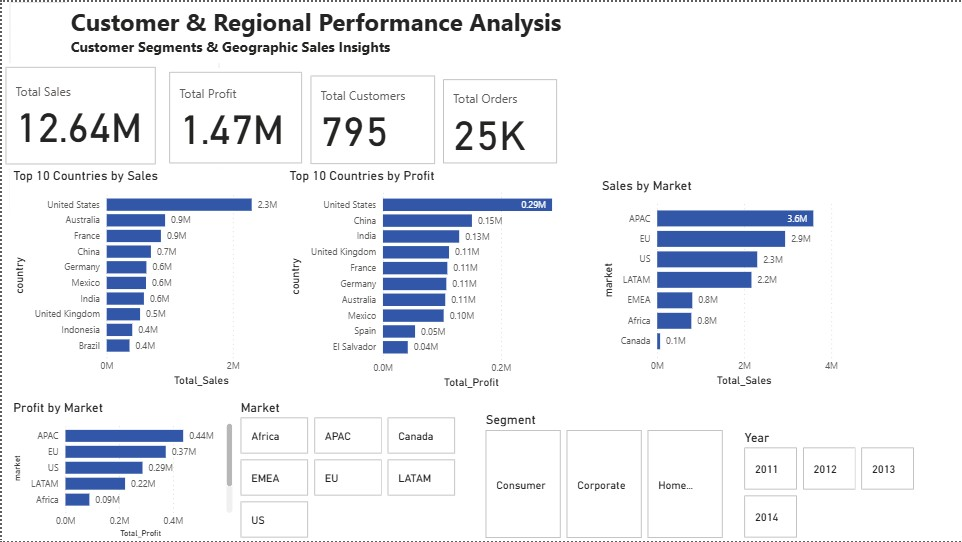

What the dashboard file says about the page in this screenshot:
{"tool":"powerbi","page":{"name":"Customer & Regional Performance Analysis","canvas":[1280,720],"ordinal":2},"visuals":[{"type":"textbox","box":[10,0,280,280],"z":0},{"type":"textbox","box":[86.2,0,775,81.2],"z":1000},{"type":"cardVisual","fields":{"Data":["SuperStore_Orders.Total_Sales"]},"box":[0,81.2,210,140],"z":2000},{"type":"cardVisual","fields":{"Data":["SuperStore_Orders.Total_Orders"]},"box":[582.5,98.8,162.5,122.5],"z":3000},{"type":"cardVisual","fields":{"Data":["SuperStore_Orders.Total_Profit"]},"box":[218.8,88.8,187.5,132.5],"z":4000},{"type":"cardVisual","fields":{"Data":["SuperStore_Orders.Total_Customers"]},"box":[406.2,92.5,176.2,128.8],"z":5000},{"type":"barChart","title":"Top 10 Countries by Sales","fields":{"Category":["SuperStore_Orders.country"],"Y":["SuperStore_Orders.Total_Sales"]},"box":[10,221.2,396.2,296.2],"z":6000},{"type":"barChart","title":"Top 10 Countries by Profit","fields":{"Category":["SuperStore_Orders.country"],"Y":["SuperStore_Orders.Total_Profit"]},"box":[378.8,221.2,385,298.8],"z":7000},{"type":"barChart","title":"Sales by Market","fields":{"Category":["SuperStore_Orders.market"],"Y":["SuperStore_Orders.Total_Sales"]},"box":[795,235,325,282.5],"z":8000},{"type":"advancedSlicerVisual","fields":{"Values":["SuperStore_Orders.market"]},"box":[312.5,530,296.2,190],"z":9000},{"type":"advancedSlicerVisual","fields":{"Values":["SuperStore_Orders.segment"]},"box":[640,546.2,326.2,173.8],"z":11000},{"type":"advancedSlicerVisual","fields":{"Values":["SuperStore_Orders.year"]},"box":[985,570,237.5,150],"z":12000},{"type":"clusteredBarChart","title":"Profit by Market","fields":{"Category":["SuperStore_Orders.market"],"Y":["SuperStore_Orders.Total_Profit"]},"box":[10,530,302.5,190],"z":13000}]}

Visuals, with their boxes in screenshot pixels (x1, y1, x2, y2), scaled from the page's 1280x720 canvas onto the 962x542 screenshot:
textbox: crop(8, 0, 218, 211)
textbox: crop(65, 0, 647, 61)
cardVisual - SuperStore_Orders.Total_Sales: crop(0, 61, 158, 167)
cardVisual - SuperStore_Orders.Total_Orders: crop(438, 74, 560, 167)
cardVisual - SuperStore_Orders.Total_Profit: crop(164, 67, 305, 167)
cardVisual - SuperStore_Orders.Total_Customers: crop(305, 70, 438, 167)
"Top 10 Countries by Sales" barChart: crop(8, 167, 305, 389)
"Top 10 Countries by Profit" barChart: crop(285, 167, 574, 391)
"Sales by Market" barChart: crop(597, 177, 842, 390)
advancedSlicerVisual - SuperStore_Orders.market: crop(235, 399, 457, 541)
advancedSlicerVisual - SuperStore_Orders.segment: crop(481, 411, 726, 541)
advancedSlicerVisual - SuperStore_Orders.year: crop(740, 429, 919, 541)
"Profit by Market" clusteredBarChart: crop(8, 399, 235, 541)
